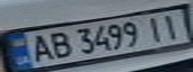3: (72, 25, 96, 55)
4: (90, 22, 112, 52)
9: (121, 18, 145, 47), (106, 20, 127, 51)
A: (21, 31, 54, 64)
B: (45, 29, 75, 60)
I: (139, 14, 172, 43), (154, 11, 187, 39)
